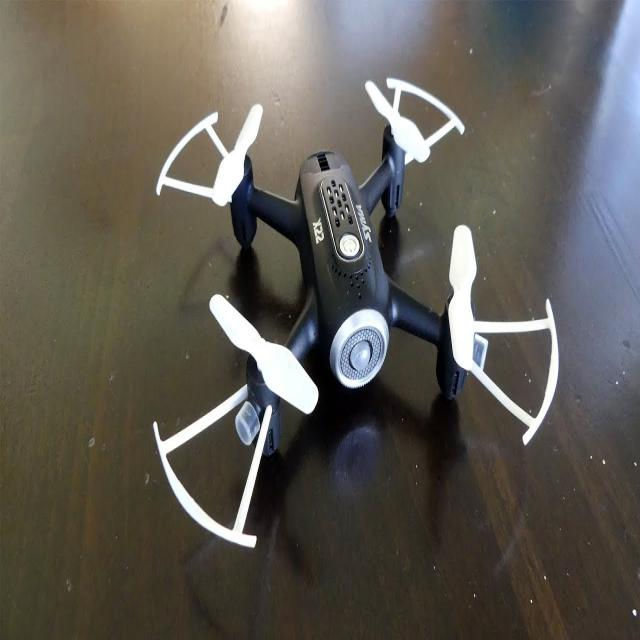drone: (117, 42, 584, 563)
